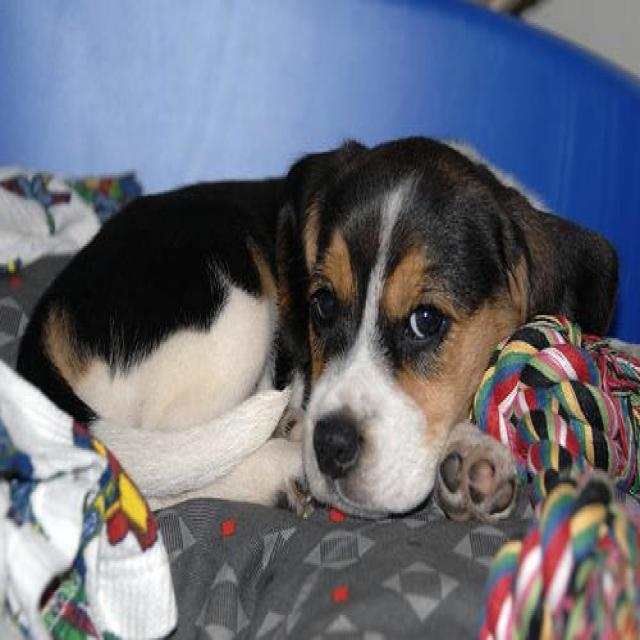beagle: (18, 134, 621, 520)
